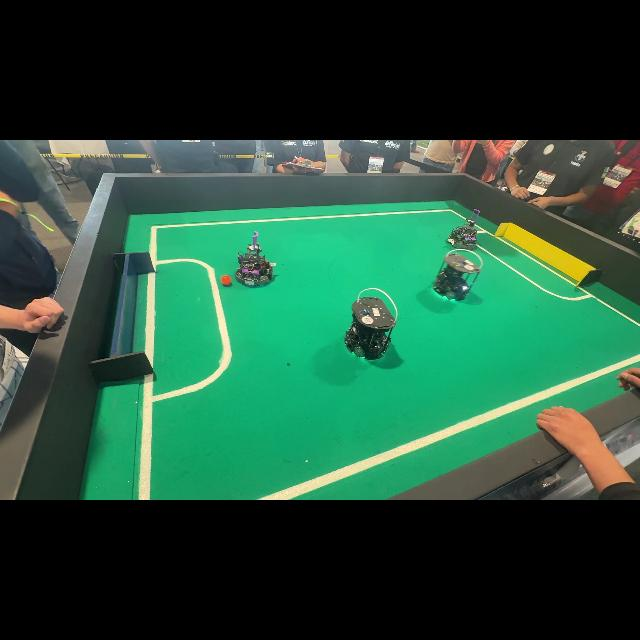ball: (221, 275, 231, 286)
goal: (90, 252, 154, 382), (495, 223, 601, 287)
robot: (344, 288, 397, 360), (433, 249, 483, 300), (236, 232, 275, 285), (444, 207, 481, 249)
